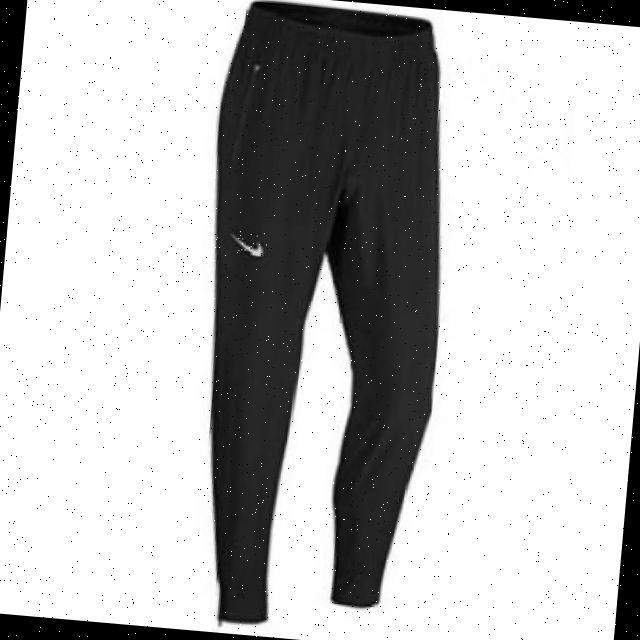Nike: (233, 229, 268, 257)
